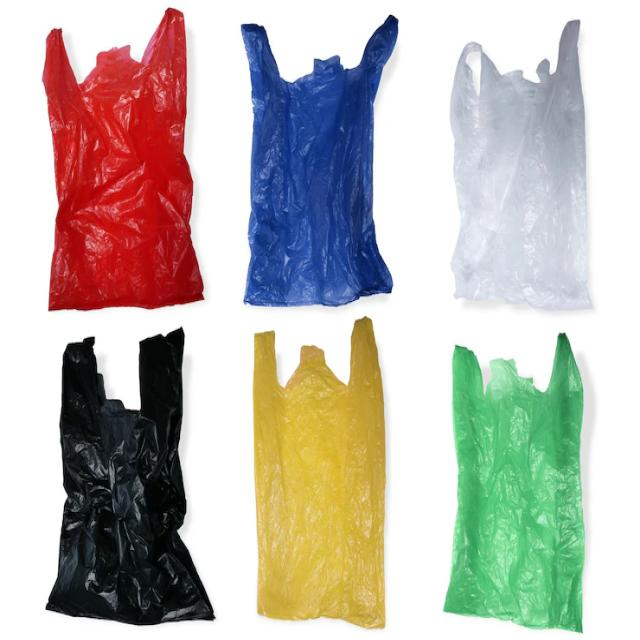plastic_bag: (238, 322, 438, 640), (436, 14, 604, 335), (26, 28, 209, 320), (438, 331, 612, 636), (36, 337, 220, 624), (233, 22, 410, 309)
